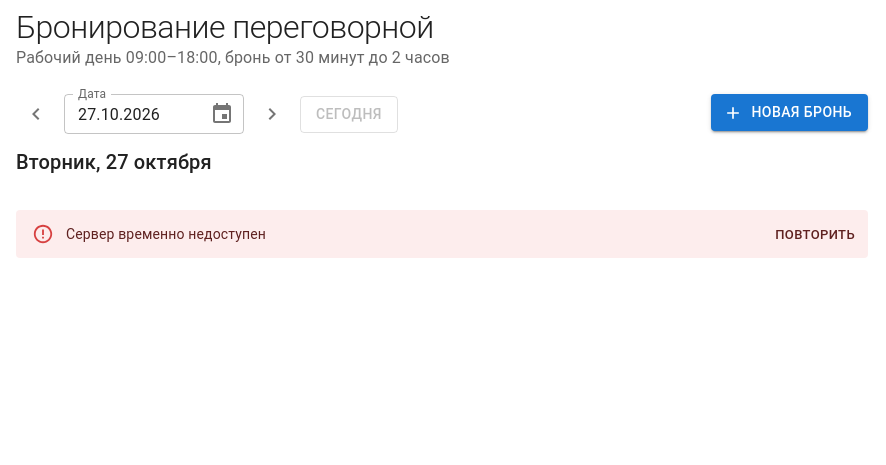
Test: App integration › shows a load error and recovers on retry
This screenshot has width=886, height=465.
Expected: the message shows "Сервер временно недоступен", 66,226 -> 266,242
Click the button "Повторить" at (815, 236), box 770,220 -> 860,251
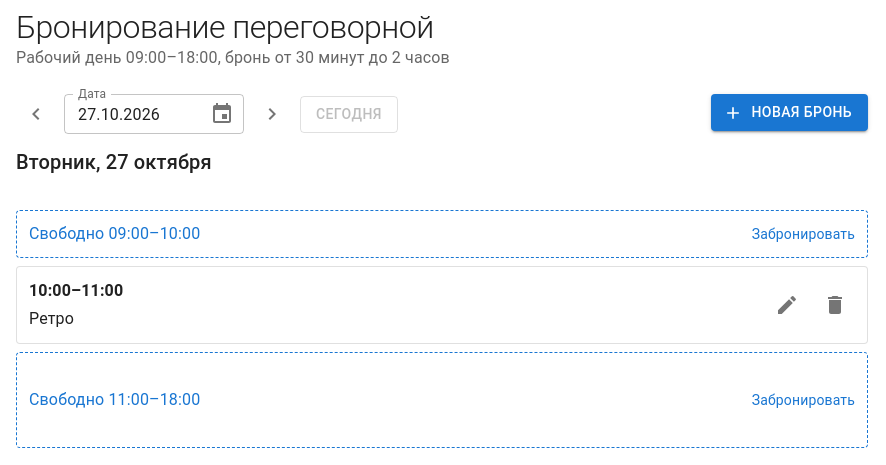
Result: the text "Ретро" is shown at 29,309 -> 74,328
Result: the message "Сервер временно недоступен Повторить" is gone
